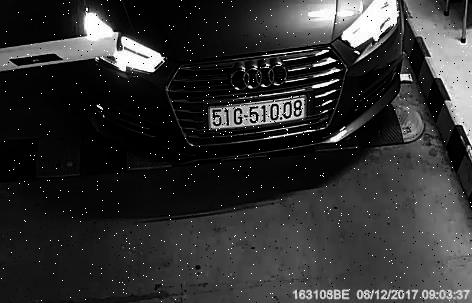License-plate: (205, 94, 313, 138)
